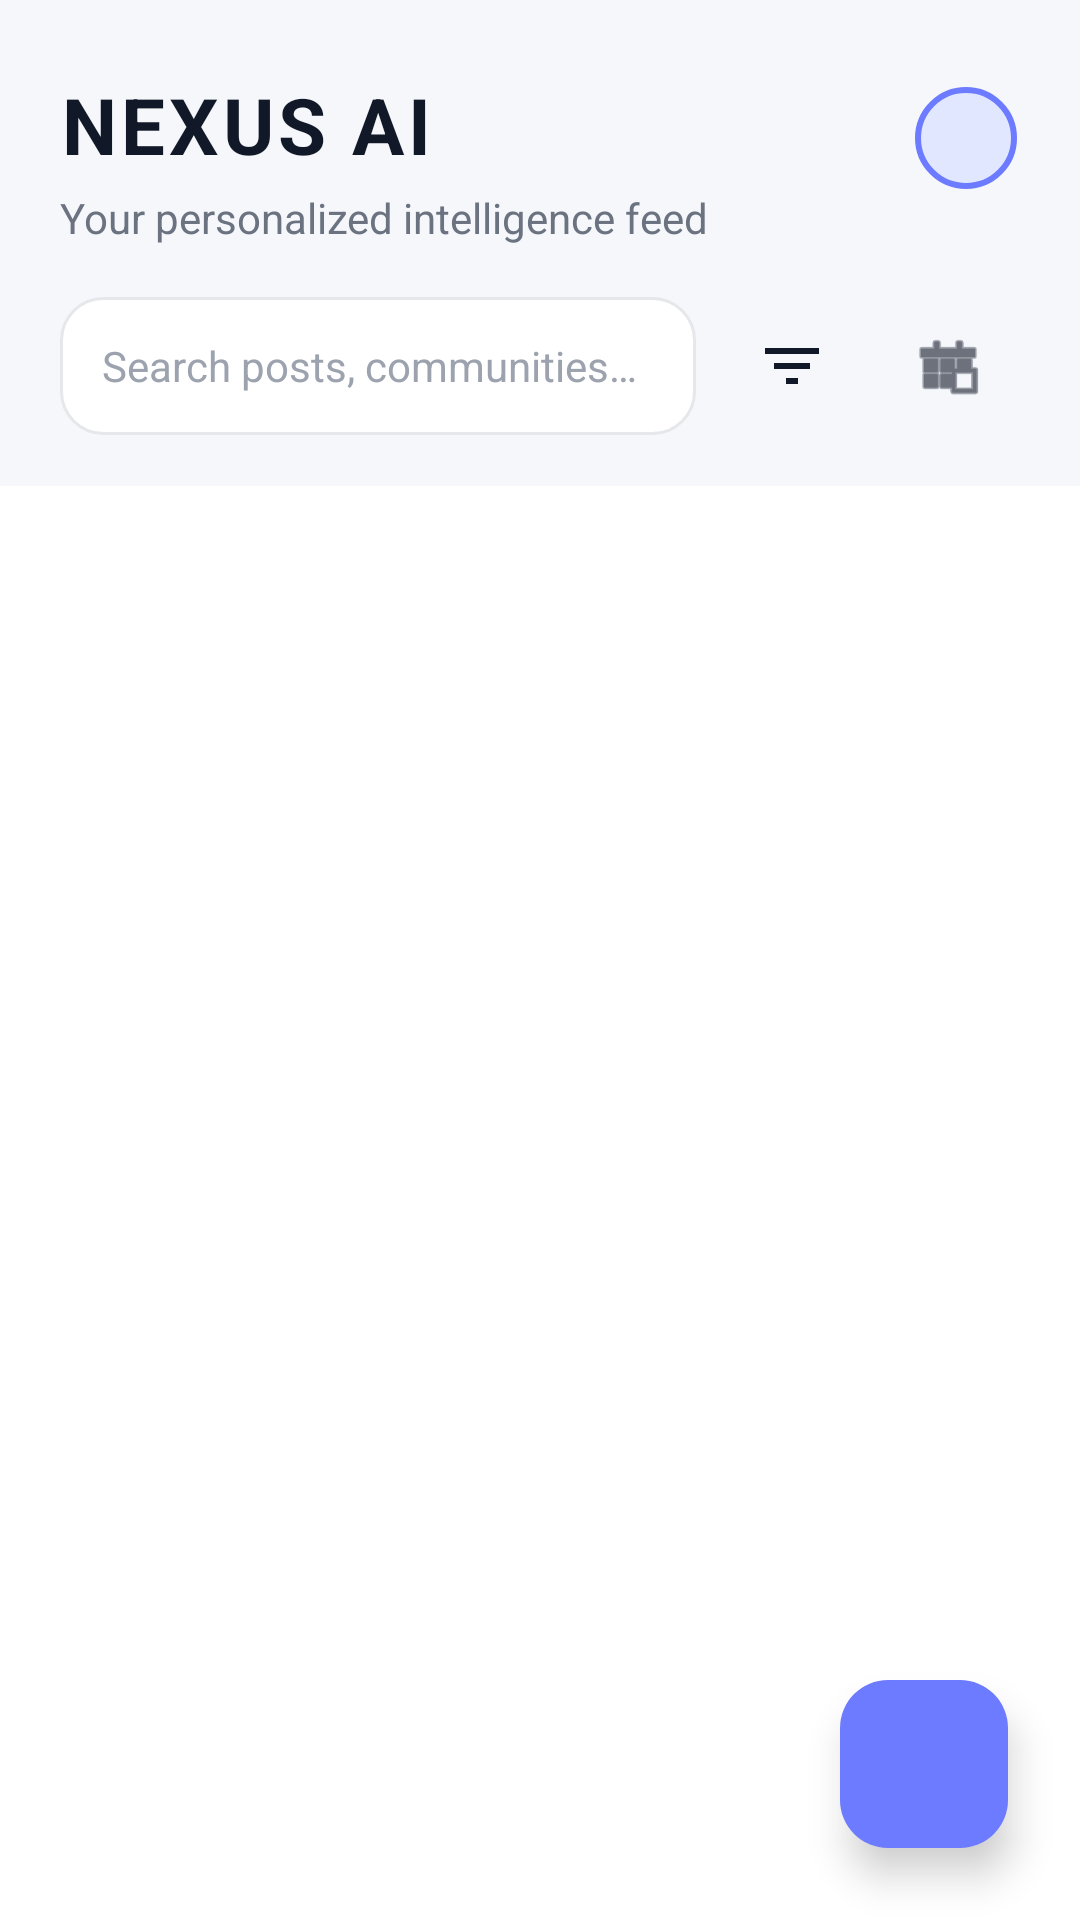

Icons on this 1080 × 1920 Android screen, each with the point to tap as [x,y]:
Filter by date: [948,367]
